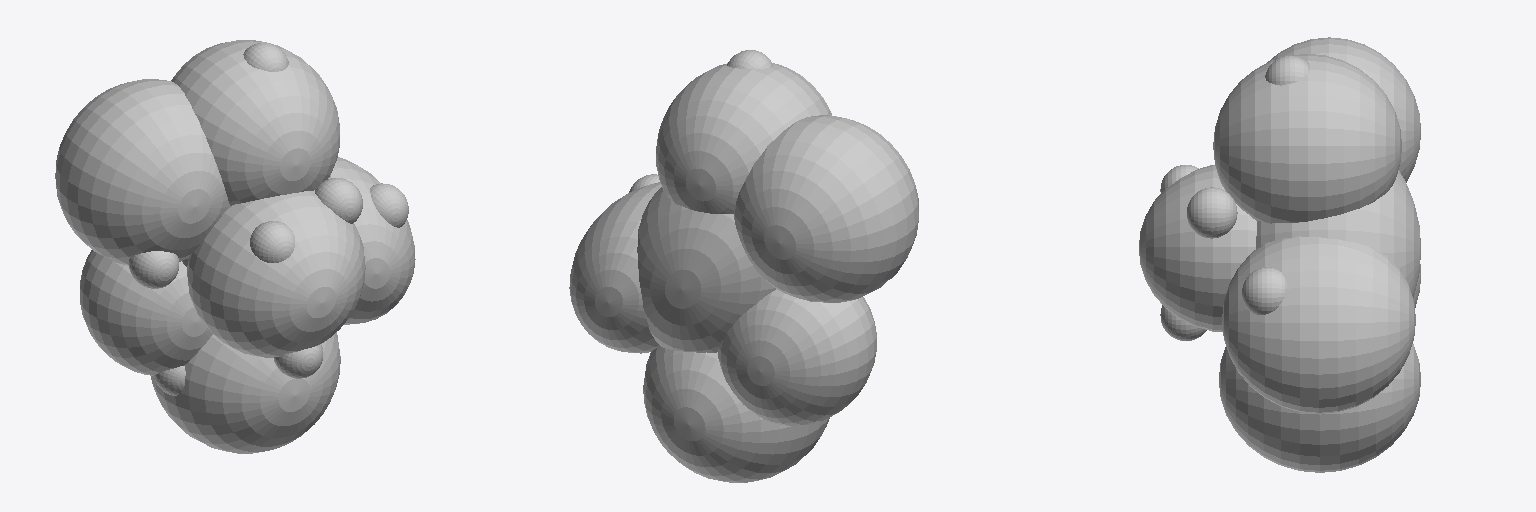
Rendered from ObjectBush1.obj.
3 views of the same model, side by side, from view 1: azimuth 30°, elevation 25°; view 2: azimuth 150°, elevation 25°; view 3: azimuth 270°, elevation 25° (orthographic).
Parts seen in each view (by area): view 1: Sphere.004, Sphere.006, Sphere.002, Sphere.001, Sphere.005, Sphere.003, Sphere.009, Sphere.007, Sphere.010, Sphere.011, Sphere.008, Sphere.012 (+1 smaller); view 2: Sphere.004, Sphere.005, Sphere.002, Sphere, Sphere.001, Sphere.003, Sphere.012; view 3: Sphere.003, Sphere.002, Sphere.001, Sphere.006, Sphere, Sphere.004, Sphere.010, Sphere.011, Sphere.012, Sphere.008.
Part boxes in pixels (bbox=[...]): Sphere.004: bbox=[55, 79, 229, 265]; Sphere.006: bbox=[187, 190, 365, 357]; Sphere.002: bbox=[171, 40, 339, 205]; Sphere.001: bbox=[151, 332, 340, 453]; Sphere.005: bbox=[80, 250, 212, 375]; Sphere.003: bbox=[331, 157, 415, 324]; Sphere.009: bbox=[129, 251, 178, 288]; Sphere.007: bbox=[250, 221, 294, 262]; Sphere.010: bbox=[315, 178, 362, 223]; Sphere.011: bbox=[370, 183, 408, 227]; Sphere.008: bbox=[274, 344, 322, 378]; Sphere.012: bbox=[243, 43, 288, 71]; Sphere.004: bbox=[734, 115, 918, 302]; Sphere.005: bbox=[718, 289, 876, 425]; Sphere.002: bbox=[656, 63, 831, 213]; Sphere: bbox=[637, 187, 775, 352]; Sphere.001: bbox=[643, 346, 829, 482]; Sphere.003: bbox=[569, 182, 661, 353]; Sphere.012: bbox=[727, 50, 772, 68]; Sphere.003: bbox=[1222, 236, 1415, 413]; Sphere.002: bbox=[1213, 54, 1401, 223]; Sphere.001: bbox=[1219, 344, 1420, 472]; Sphere.006: bbox=[1139, 165, 1256, 331]; Sphere: bbox=[1256, 170, 1420, 297]; Sphere.004: bbox=[1267, 37, 1420, 182]; Sphere.010: bbox=[1187, 187, 1237, 238]; Sphere.011: bbox=[1242, 267, 1286, 314]; Sphere.012: bbox=[1265, 55, 1309, 85]; Sphere.008: bbox=[1160, 305, 1206, 340].
Size of the model in its own units: 3.28 by 3.9 by 2.44.